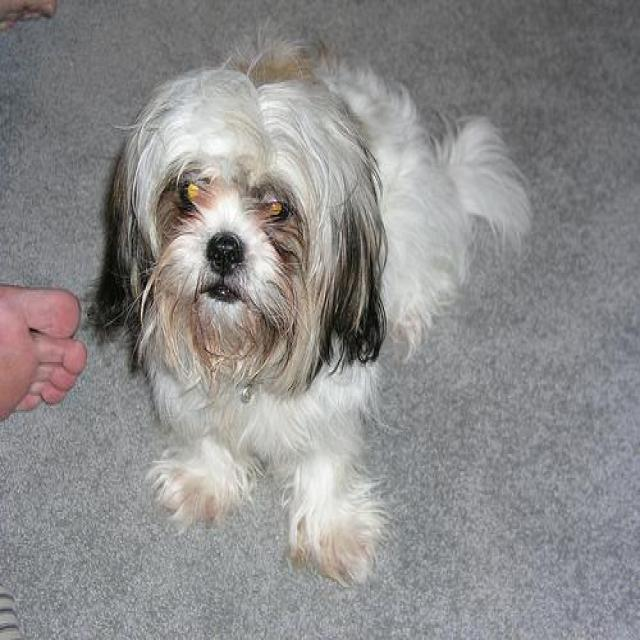shih_tzu: (94, 22, 536, 587)
